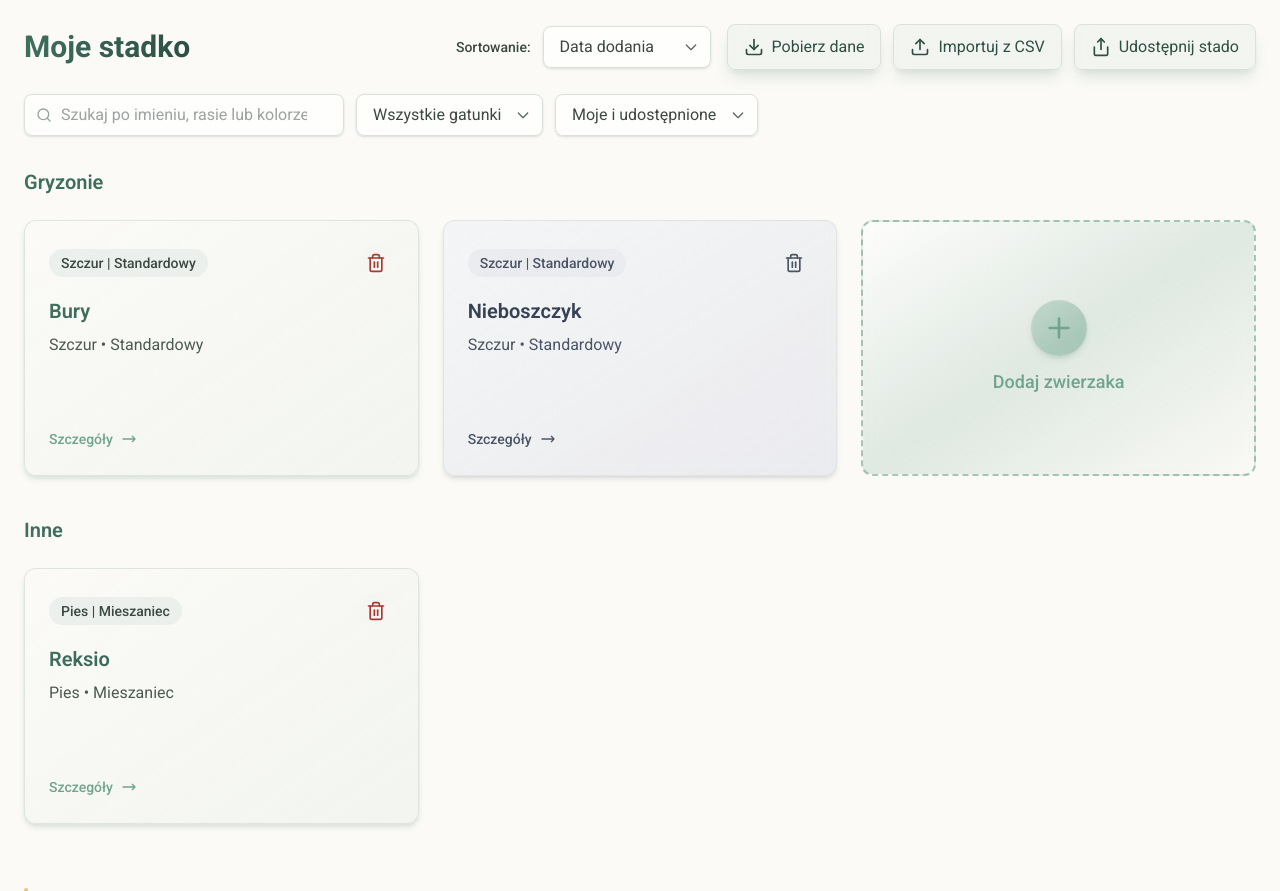
Dashboard filtering › filters pets by search query in real time
Type "bury" into the field with placeholder "Szukaj po imieniu, rasie lub kolorze...". click: (184, 115)
box: [24,94,344,136]
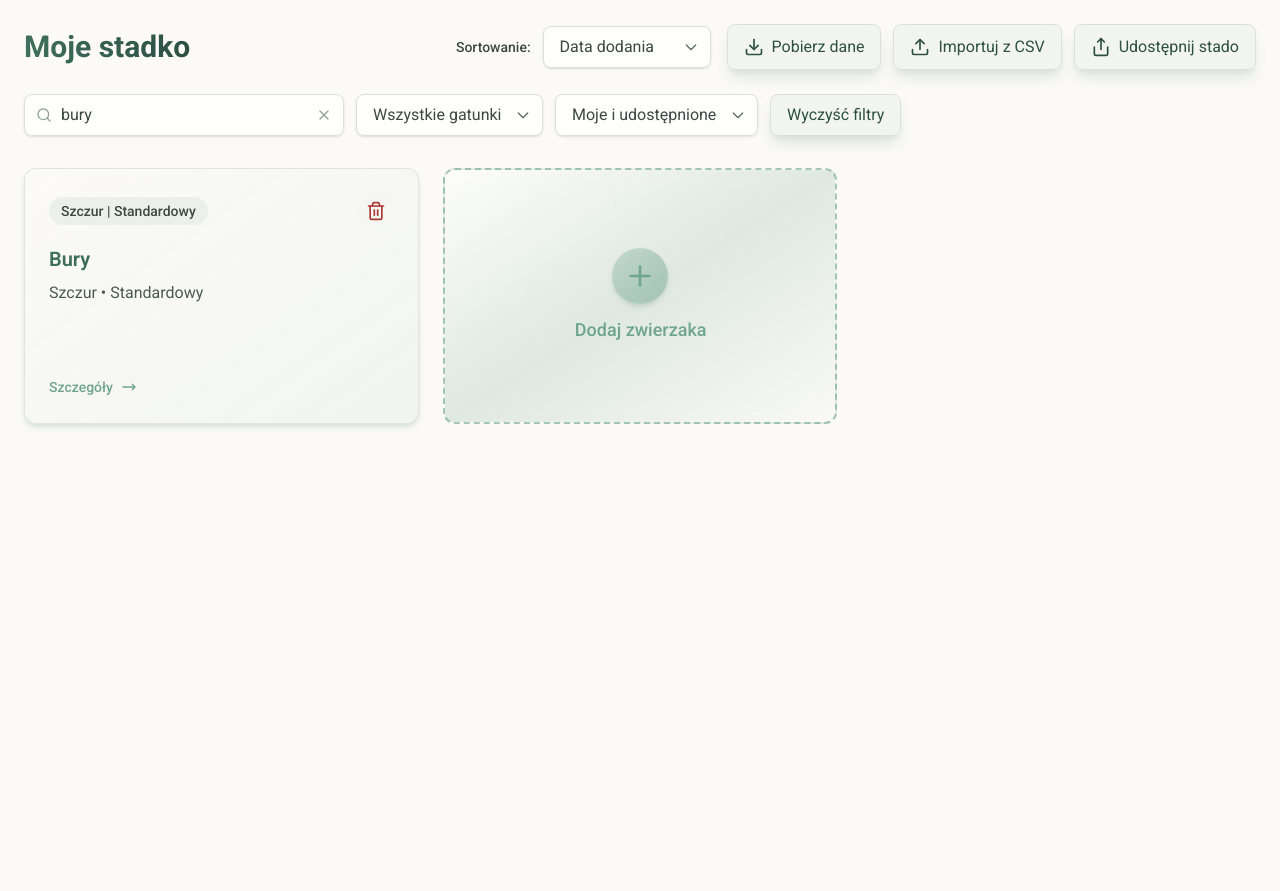
Expected: the heading "Bury" is shown, [49,245,394,273]
Now the heading "Reksio" is gone
